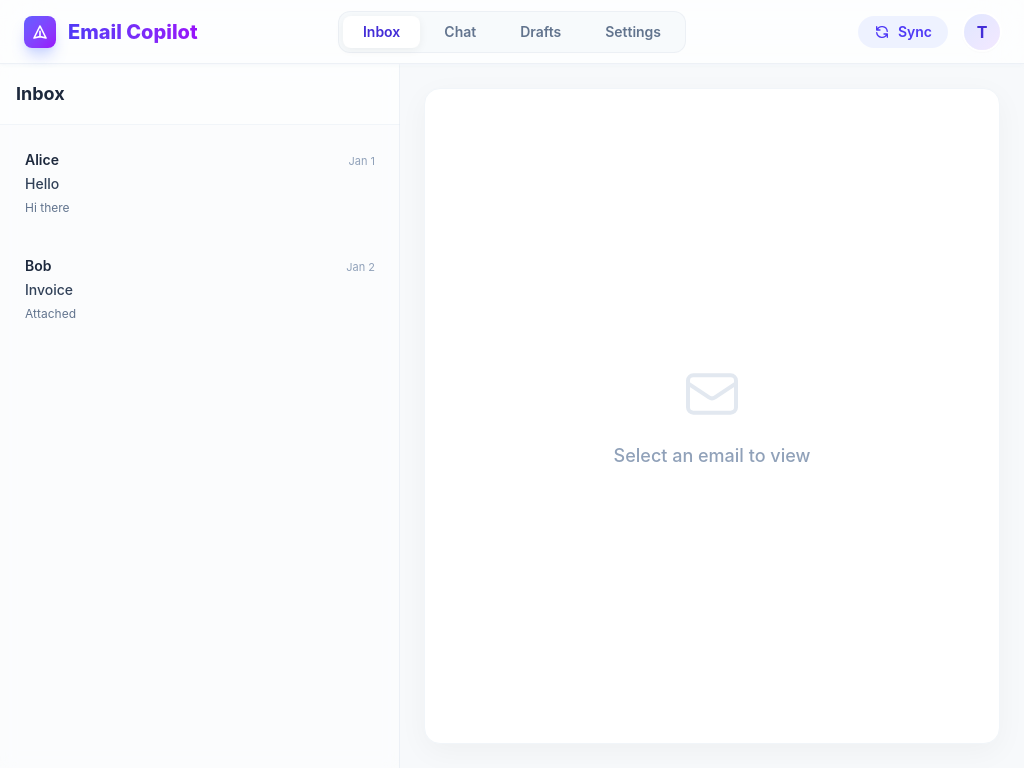
App Component › loads email details when an email is clicked
The width and height of the screenshot is (1024, 768).
# Click the email
Click the text "Alice" at point(42, 160), box [25,150,59,170]
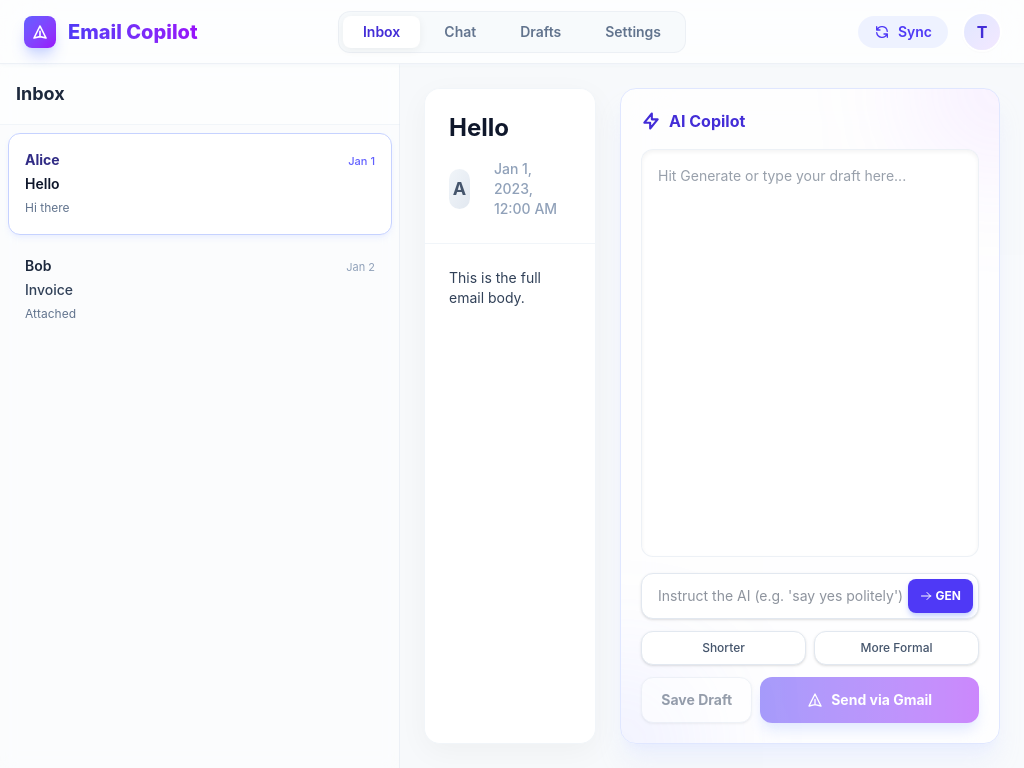
Now the text "This is the full email body." is shown, box [449,269,541,306]
